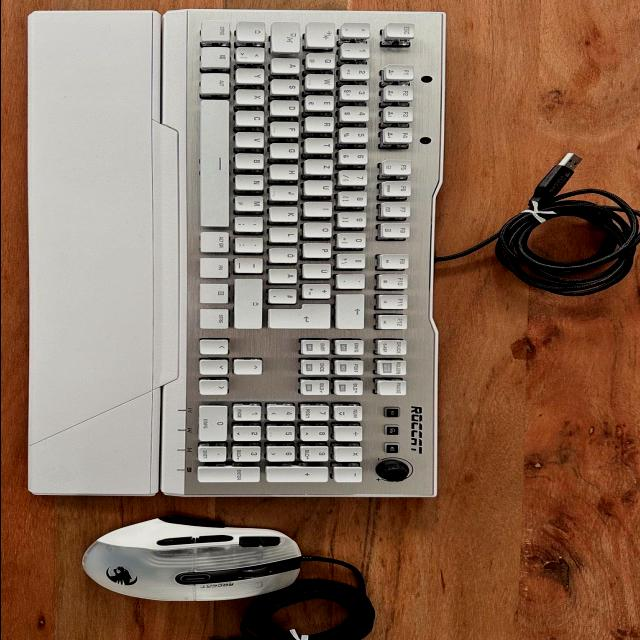0: (338, 232, 370, 248)
1: (343, 42, 374, 58)
2: (342, 63, 373, 79)
3: (341, 84, 373, 100)
4: (342, 105, 373, 121)
5: (341, 127, 372, 143)
6: (340, 148, 371, 164)
7: (339, 169, 371, 185)
8: (339, 190, 371, 206)
9: (339, 211, 371, 228)
a: (273, 57, 303, 73)
accent: (338, 272, 368, 288)
ae: (270, 267, 301, 283)
alt-left: (201, 71, 233, 94)
altgr-right: (202, 230, 233, 252)
b: (238, 152, 268, 168)
c: (238, 110, 269, 126)
caret: (344, 22, 374, 37)
comma: (237, 215, 267, 231)
d: (272, 99, 303, 115)
del: (337, 292, 368, 328)
e: (307, 94, 338, 110)
enter: (269, 302, 335, 328)
f: (272, 120, 302, 136)
g: (272, 142, 302, 158)
h: (272, 163, 302, 179)
hash: (269, 287, 300, 303)
i: (306, 200, 336, 216)
j: (272, 184, 302, 200)
k: (271, 205, 301, 221)
keyboard: (167, 10, 445, 496)
l: (271, 226, 301, 242)
less: (237, 46, 269, 62)
m: (236, 195, 267, 211)
minus: (237, 256, 267, 272)
n: (237, 173, 267, 189)
o: (306, 221, 336, 237)
oe: (271, 246, 302, 262)
p: (305, 241, 335, 257)
plus: (303, 282, 334, 298)
point: (237, 236, 267, 252)
q: (308, 52, 338, 68)
r: (307, 116, 337, 132)
s: (273, 78, 303, 94)
shift-left: (238, 20, 268, 41)
shift-lock: (273, 20, 303, 52)
shift-right: (236, 276, 266, 328)
space: (200, 97, 233, 227)
ss: (337, 252, 369, 268)
strg-left: (202, 19, 233, 41)
strg-right: (201, 307, 232, 329)
t: (307, 137, 337, 153)
tab: (308, 21, 338, 47)
u: (307, 179, 337, 195)
ue: (305, 262, 335, 278)
v: (238, 131, 268, 147)
w: (306, 73, 338, 89)
x: (238, 88, 269, 104)
y: (238, 67, 268, 83)
z: (307, 158, 337, 174)
